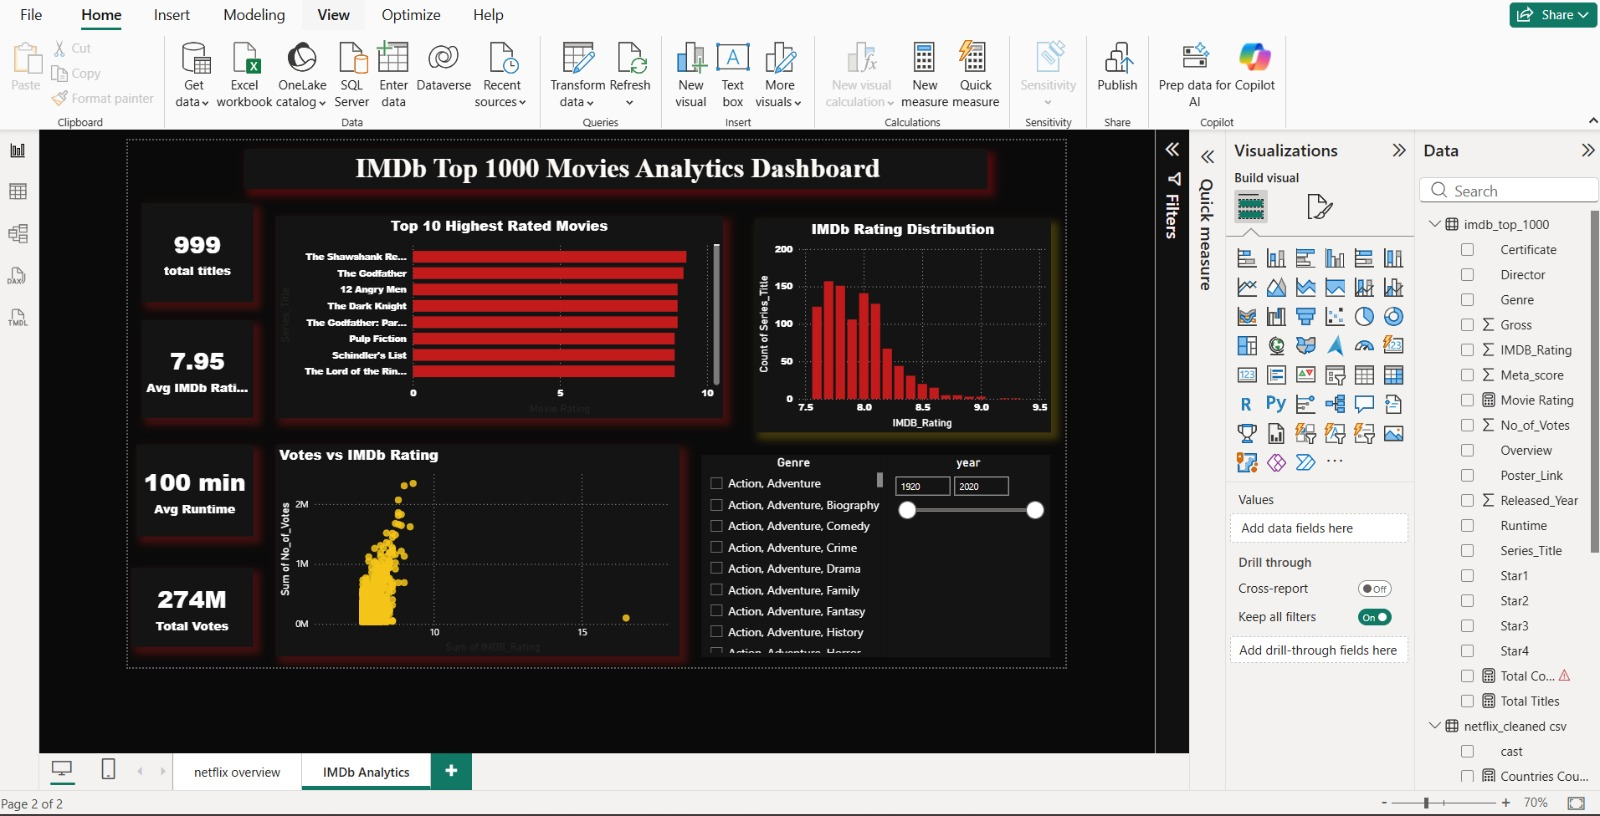

The dashboard page shown, as its layout file describes it:
{"tool":"powerbi","page":{"name":"IMDb Analytics","canvas":[1280,720],"ordinal":1},"visuals":[{"type":"textbox","box":[158.2,11.4,1014.9,55.6],"z":0},{"type":"card","fields":{"Values":["Count(imdb_top_1000.Series_Title)"]},"box":[18.5,85.5,152.5,135.4],"z":1000},{"type":"card","fields":{"Values":["Avg(imdb_top_1000.IMDB_Rating)"]},"box":[18.5,245.2,152.5,134],"z":2000},{"type":"card","fields":{"Values":["Min(imdb_top_1000.Runtime)"]},"box":[11.4,416.2,159.6,125.4],"z":3000},{"type":"card","fields":{"Values":["Sum(imdb_top_1000.No_of_Votes)"]},"box":[4.3,584.4,166.8,108.3],"z":4000},{"type":"barChart","title":"Top 10 Highest Rated Movies","fields":{"Category":["imdb_top_1000.Series_Title"],"Y":["imdb_top_1000.Movie Rating"]},"box":[201,102.6,611.5,276.5],"z":5000},{"type":"columnChart","title":"IMDb Rating Distribution","fields":{"Category":["imdb_top_1000.IMDB_Rating"],"Y":["CountNonNull(imdb_top_1000.Series_Title)"]},"box":[855.2,106.9,404.8,292.2],"z":6000},{"type":"scatterChart","title":"Votes vs IMDb Rating","fields":{"X":["Sum(imdb_top_1000.IMDB_Rating)"],"Y":["Sum(imdb_top_1000.No_of_Votes)"],"Category":["imdb_top_1000.Series_Title"]},"box":[201,416.2,551.6,289.4],"z":7000},{"type":"slicer","title":"Genre","fields":{"Values":["imdb_top_1000.Genre"]},"box":[782.9,430,252.9,275.7],"z":8000},{"type":"slicer","title":"year","fields":{"Values":["imdb_top_1000.Released_Year"]},"box":[1036,430,224,276],"z":9000}]}

Visuals, with their boxes on the page's 1280x720 design canvas (x1, y1, x2, y2). These are canvas units, not pixel positions in the 1600x816 screenshot, which may show the page scaled, cropped or inside an application window:
textbox: [158,11,1173,67]
card - Count(imdb_top_1000.Series_Title): [18,86,171,221]
card - Avg(imdb_top_1000.IMDB_Rating): [18,245,171,379]
card - Min(imdb_top_1000.Runtime): [11,416,171,542]
card - Sum(imdb_top_1000.No_of_Votes): [4,584,171,693]
"Top 10 Highest Rated Movies" barChart: [201,103,812,379]
"IMDb Rating Distribution" columnChart: [855,107,1260,399]
"Votes vs IMDb Rating" scatterChart: [201,416,753,706]
"Genre" slicer: [783,430,1036,706]
"year" slicer: [1036,430,1260,706]
